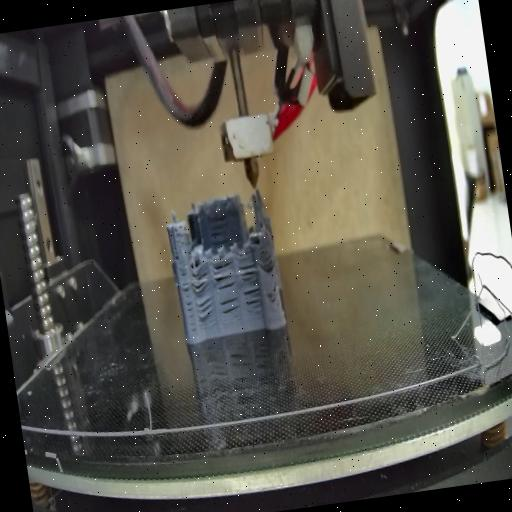cracks: (178, 270, 198, 330), (206, 208, 234, 246), (211, 258, 237, 291), (216, 292, 242, 323), (236, 255, 260, 284), (191, 266, 214, 296), (258, 238, 276, 274), (242, 284, 262, 310), (198, 300, 214, 321), (266, 280, 280, 303), (173, 246, 186, 264)
